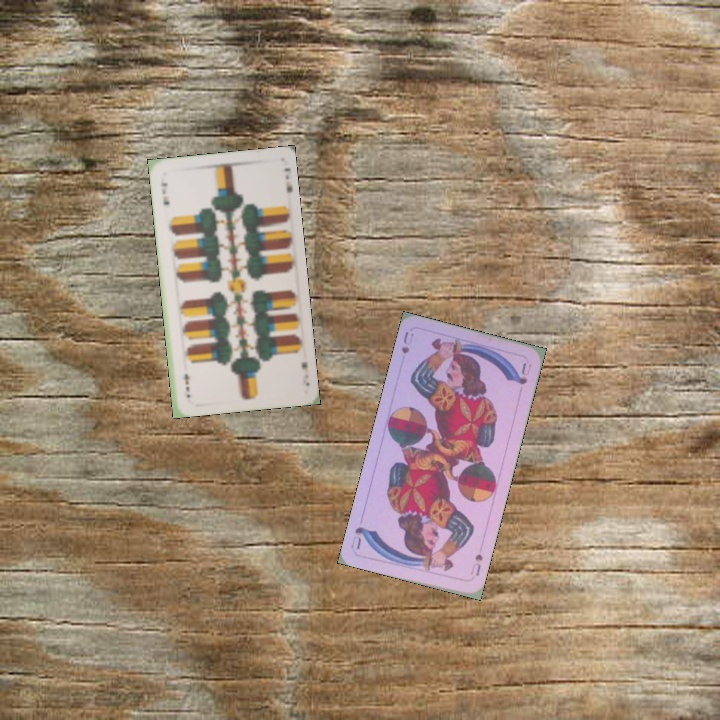E7: (157, 178, 172, 208), (298, 357, 312, 389)
SU: (397, 327, 416, 356), (466, 550, 485, 578)
